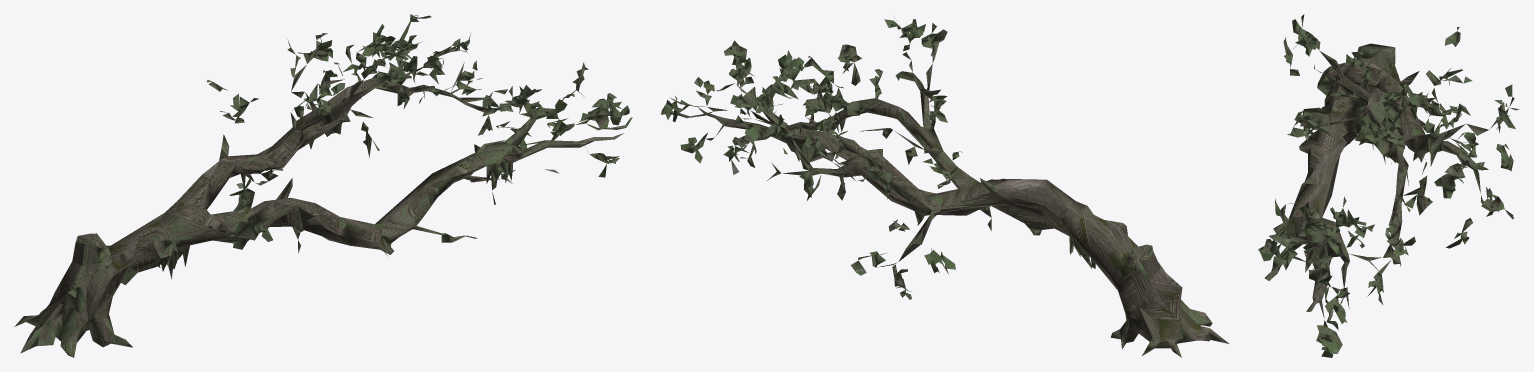
Rendered from meshy-river-oak-lite.glb.
3 renders of one model, left to right at view 1: azimuth 30°, elevation 25°; view 2: azimuth 150°, elevation 25°; view 3: azimuth 270°, elevation 25°, orthographic. The views are drawn at different scales.
Visible parts, largest first — view 1: Mesh_0; view 2: Mesh_0; view 3: Mesh_0.
Part boxes in pixels (x1,y1,x2,y2): Mesh_0: (14, 14, 632, 357); Mesh_0: (661, 19, 1229, 357); Mesh_0: (1258, 14, 1519, 357).
Bounding box in the file's own units: 1.11 × 0.4301 × 0.3767.
1 material, 1 textured.
